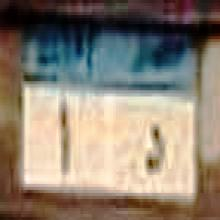1: (57, 96, 74, 178)
daal: (143, 121, 165, 179)
